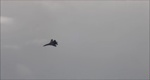maybay_muctieu: (43, 38, 59, 49)
